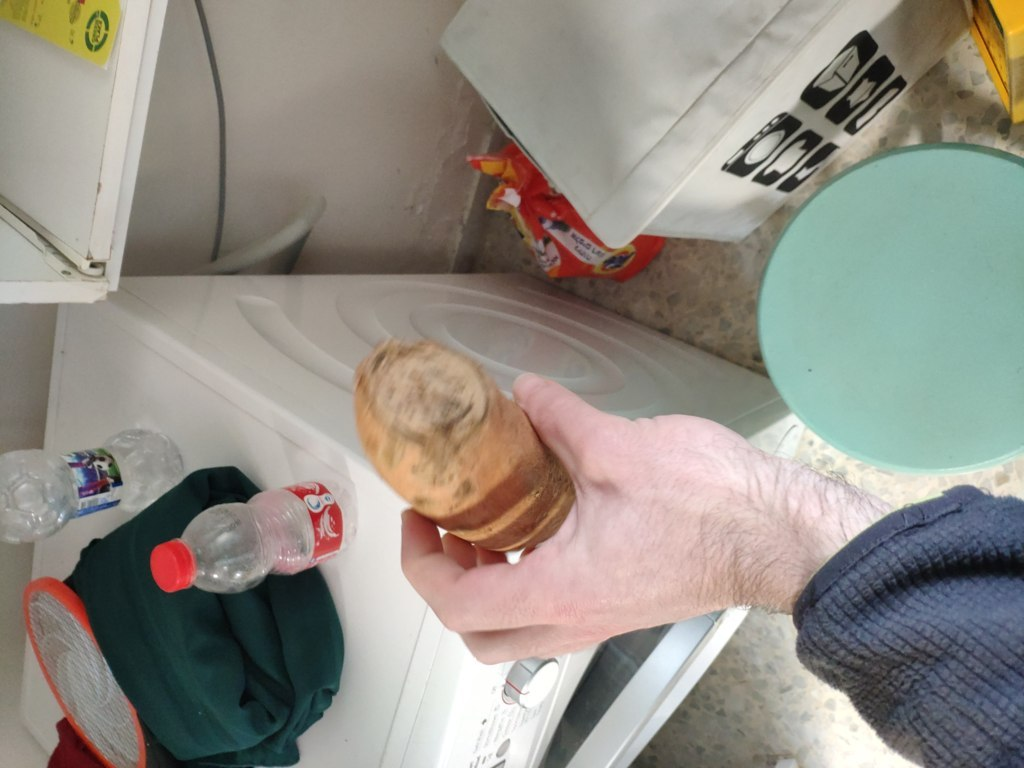Sweet Potato: (358, 353, 585, 551)
